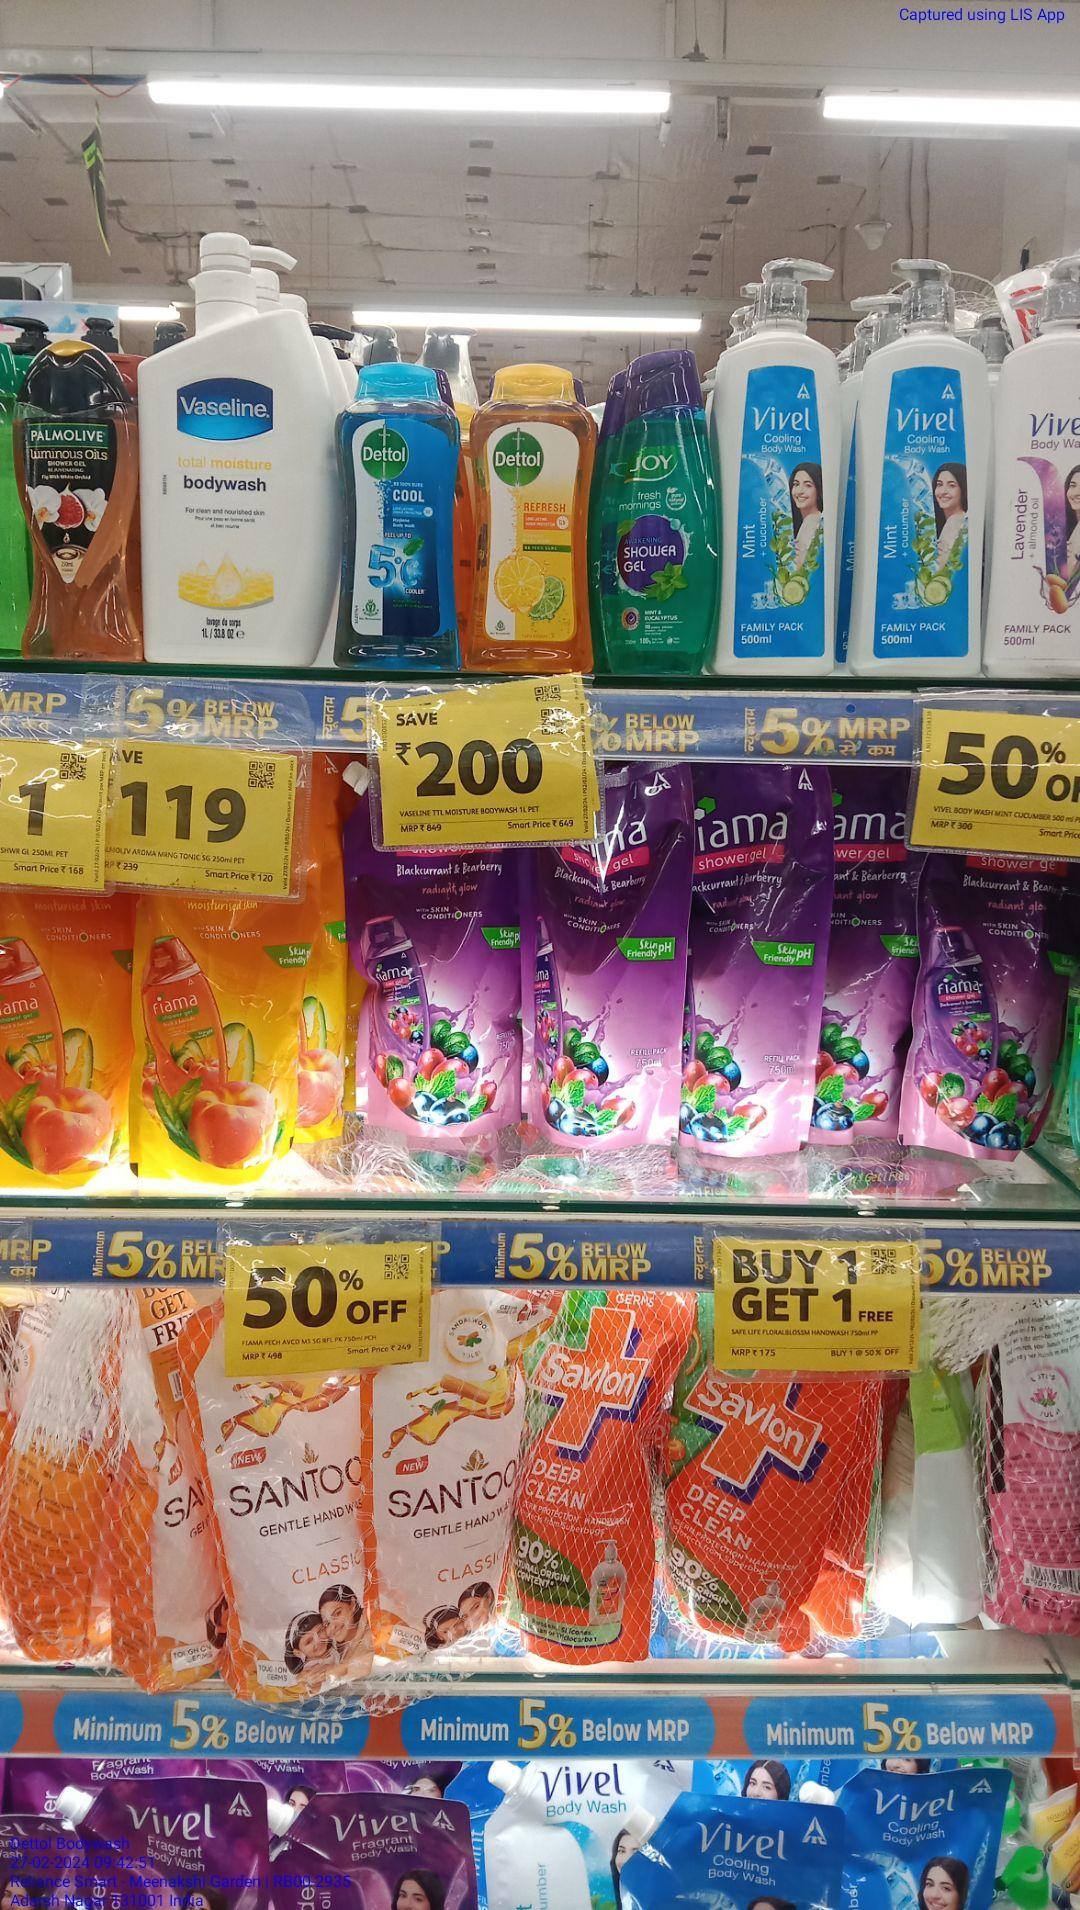Dettol_Bodywash_Cool: (341, 354, 455, 681)
Dettol_Bodywash_Refresh: (468, 365, 581, 677)
Joy_Shower_Gel_Mint_and_Eucalyptus_250ML: (602, 337, 713, 683)
Palmolive_Luminous_Oils_With_White_Orchid_Shower_Gel_250ML: (18, 320, 139, 674)
